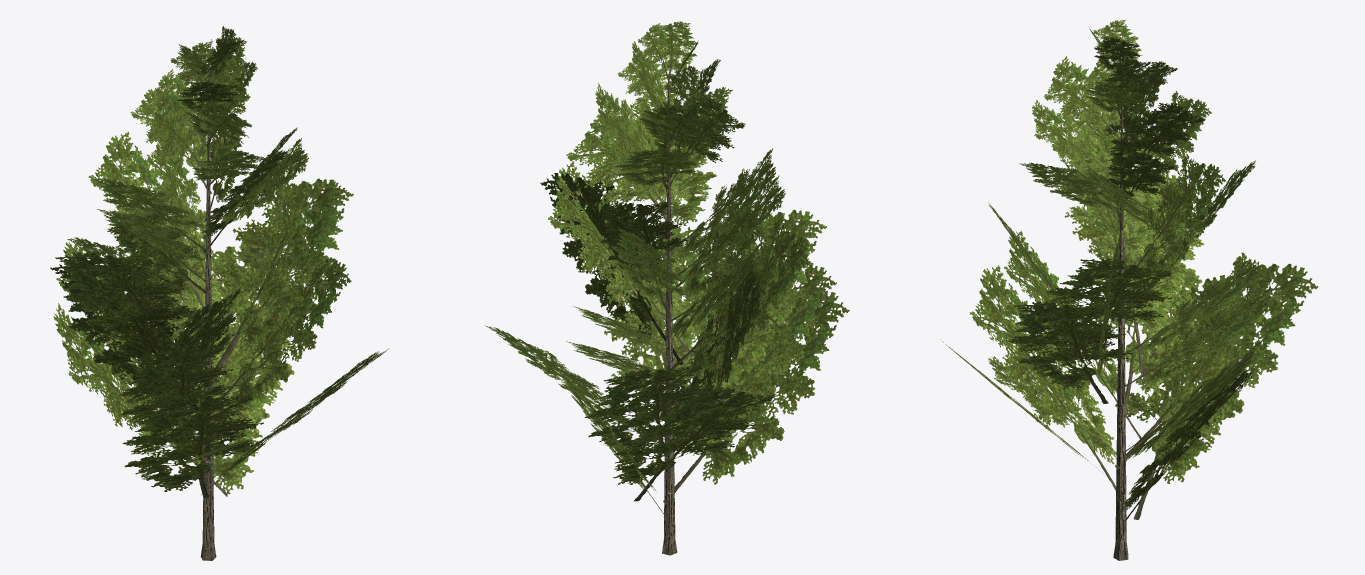
Rendered from tree_hipoly07.obj.
3 renders of one model, left to right at view 1: azimuth 30°, elevation 25°; view 2: azimuth 150°, elevation 25°; view 3: azimuth 270°, elevation 25°, orthographic. The views are drawn at different scales.
Visible parts, largest first — view 1: tree_hipoly07; view 2: tree_hipoly07; view 3: tree_hipoly07.
Boxes of the visible parts, x1,y1,x2,y2 form: tree_hipoly07: (50, 25, 389, 560); tree_hipoly07: (485, 21, 849, 555); tree_hipoly07: (940, 19, 1318, 560).
Bounding box in the file's own units: 14.38 × 21.29 × 15.96.
